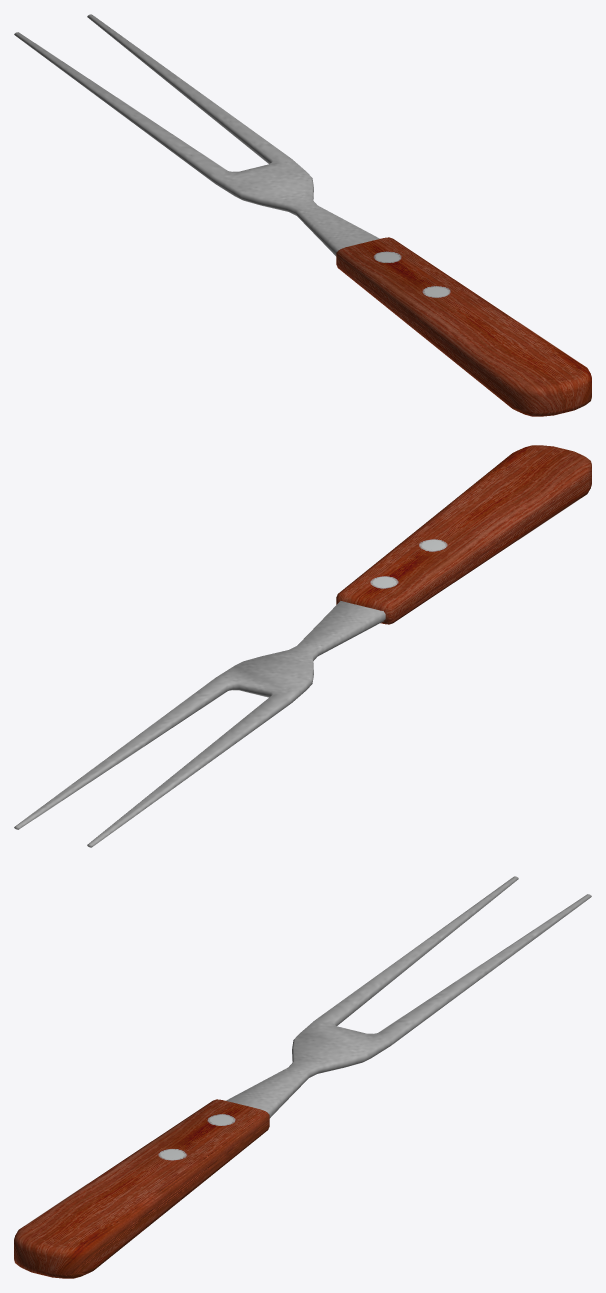
Rendered from GardenKitchenTool01_2.FBX.
3 views of the same model, one above another, from view 1: azimuth 30°, elevation 25°; view 2: azimuth 150°, elevation 25°; view 3: azimuth 330°, elevation 25° (orthographic).
Parts seen in each view (by area): view 1: GardenKitchenTool01_2; view 2: GardenKitchenTool01_2; view 3: GardenKitchenTool01_2.
Part boxes in pixels (x1,y1,x2,y2): GardenKitchenTool01_2: (14,14,591,416); GardenKitchenTool01_2: (14,445,591,847); GardenKitchenTool01_2: (14,876,591,1278).
Size of what is drawn, in the model's own units: 0.0318 by 0.0115 by 0.3568.
